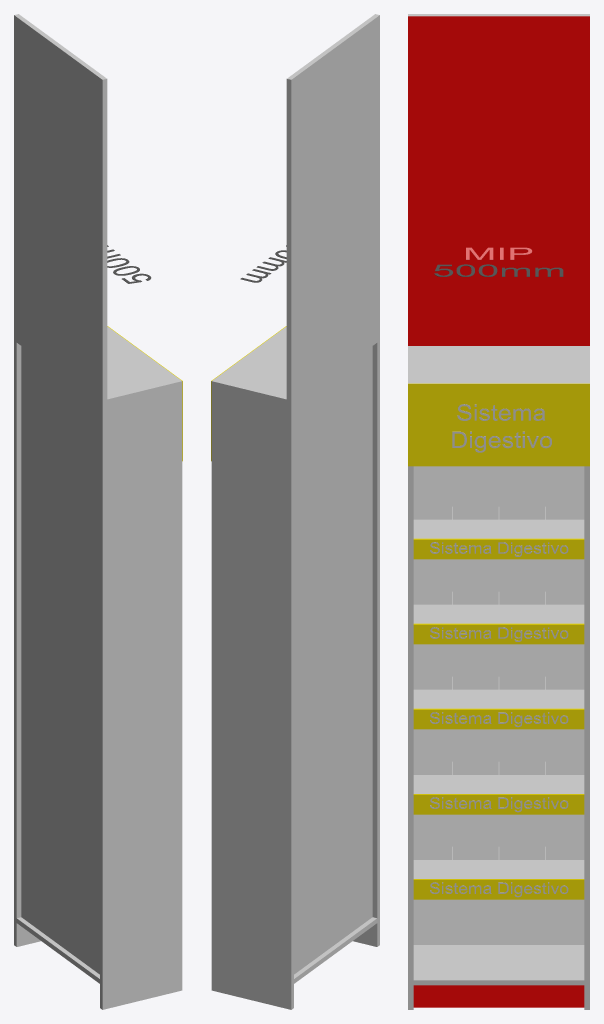
Rendered from mip sistema digestivo.glb.
3 renders of one model, left to right at view 1: azimuth 30°, elevation 25°; view 2: azimuth 150°, elevation 25°; view 3: azimuth 270°, elevation 25°, orthographic. The views are drawn at different scales.
Visible parts, largest first — view 1: Geom3D_ (×6), Geom3D_500mm#4; view 2: Geom3D_ (×6); view 3: Geom3D (×8), Geom3D_ (×11), Geom3D_Sistema Digestiv#1 (×5), Geom3D_Sistema Digestiv, Geom3D_500mm#4.
Boxes of the visible parts, bbox=[...] form: Geom3D_ (×6): bbox=[14, 14, 182, 1009]; Geom3D_500mm#4: bbox=[107, 245, 151, 283]; Geom3D_ (×6): bbox=[211, 14, 379, 1009]; Geom3D (×8): bbox=[408, 16, 589, 1007]; Geom3D_ (×11): bbox=[408, 14, 589, 1009]; Geom3D_Sistema Digestiv#1 (×5): bbox=[430, 542, 568, 897]; Geom3D_Sistema Digestiv: bbox=[452, 404, 551, 452]; Geom3D_500mm#4: bbox=[434, 264, 563, 276].
Size of the model in its own units: 0.263 by 2.9 by 0.5.
